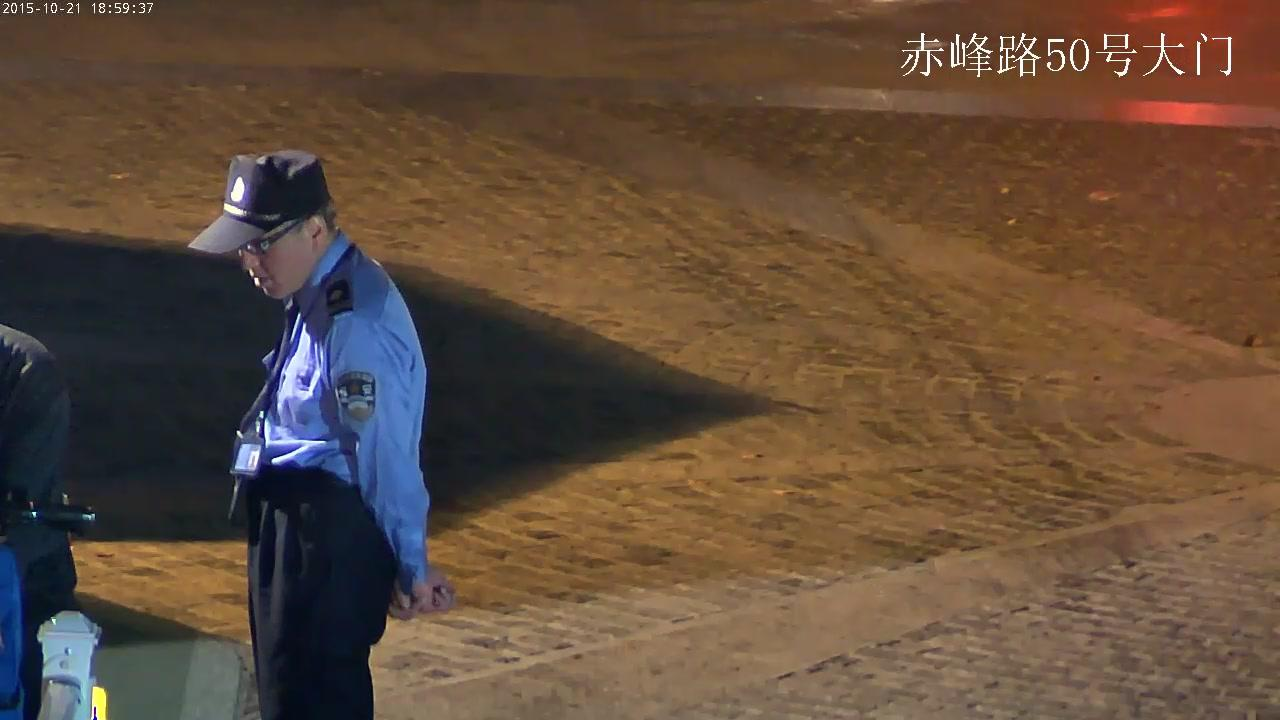face: (237, 223, 309, 298)
